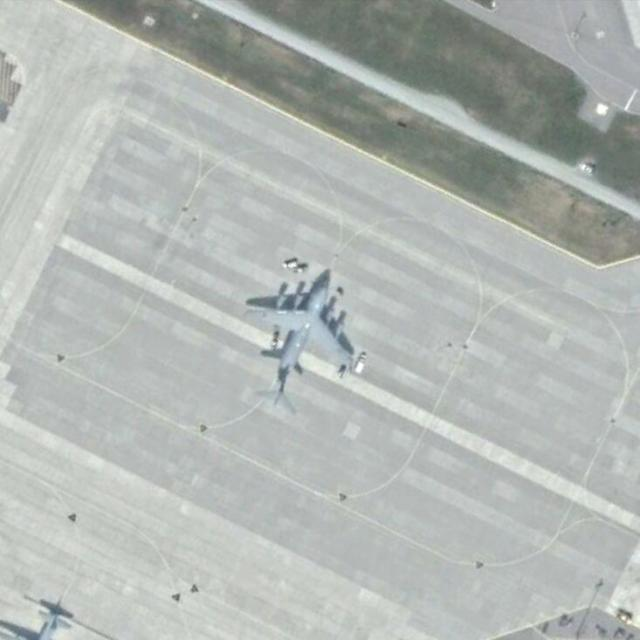fighter jet: (243, 272, 356, 389)
